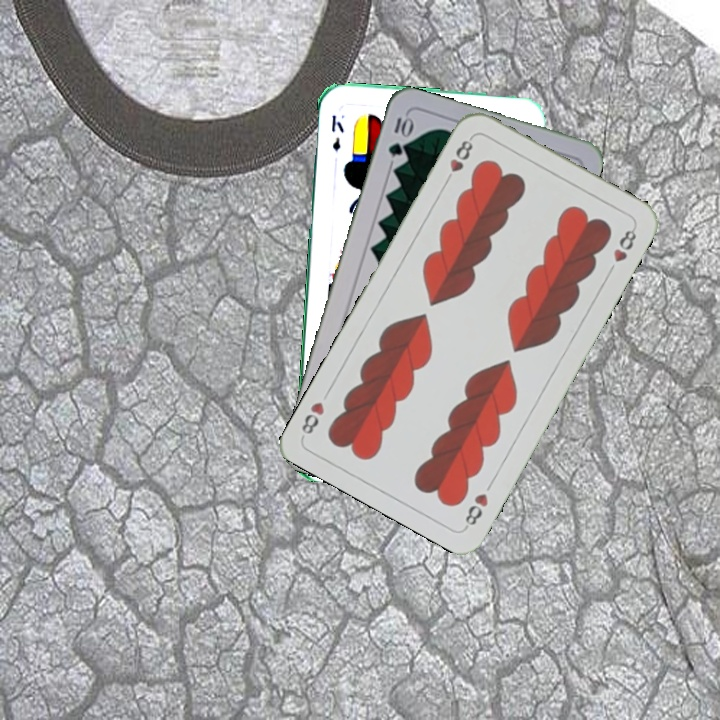EK: (327, 110, 347, 154)
G10: (384, 111, 414, 159)
H8: (441, 133, 476, 187), (461, 489, 491, 531)
